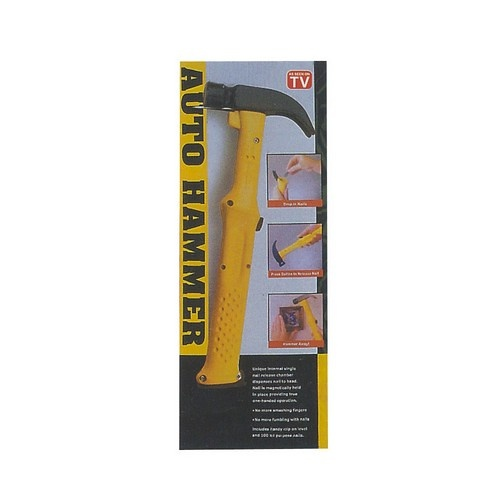hammer: (198, 80, 310, 385)
